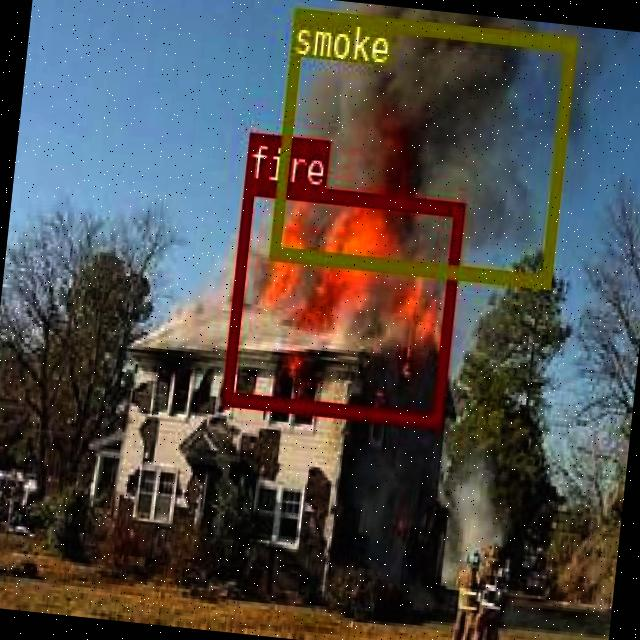fire: (220, 179, 462, 424)
smoke: (268, 5, 574, 284)
